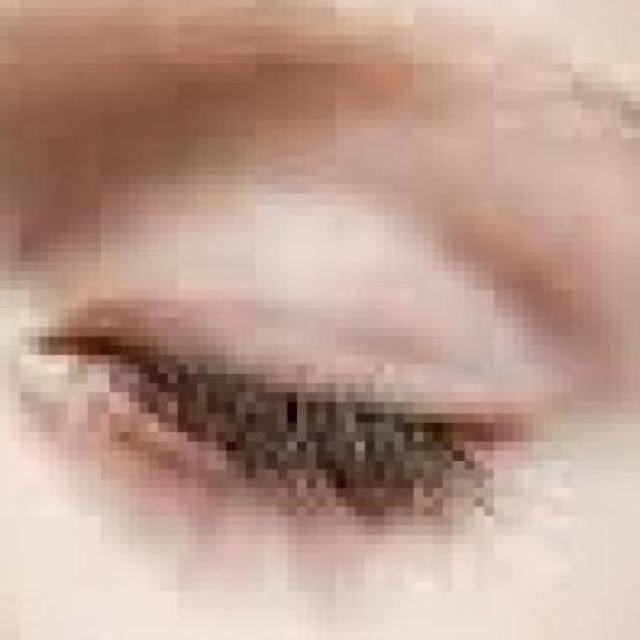drowsy: (12, 190, 514, 638)
